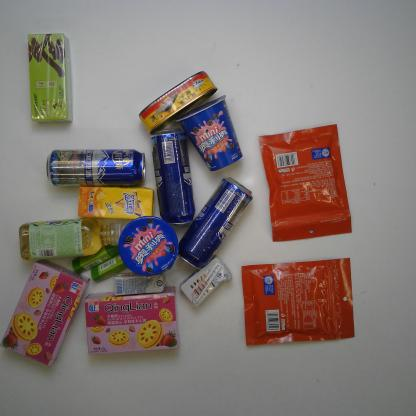Alcohol: (173, 174, 255, 272), (148, 127, 198, 226), (42, 147, 148, 191)
Canned Food: (136, 67, 220, 136)
Dessert: (1, 257, 92, 369), (83, 284, 183, 357), (173, 92, 244, 173), (118, 213, 181, 278)
Dried Fruit: (257, 122, 355, 243), (239, 256, 358, 348)
Drink: (16, 216, 127, 263), (74, 183, 156, 223)
Instant Drink: (21, 30, 77, 127)
Milk: (178, 252, 236, 311), (111, 268, 167, 298)
Stationery: (70, 243, 121, 275), (90, 252, 130, 284)
